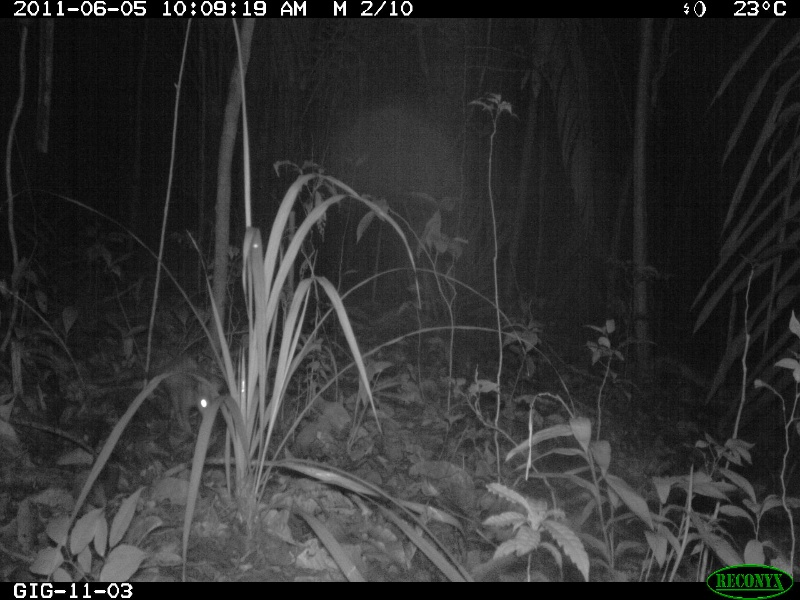opossum: (124, 354, 225, 433)
